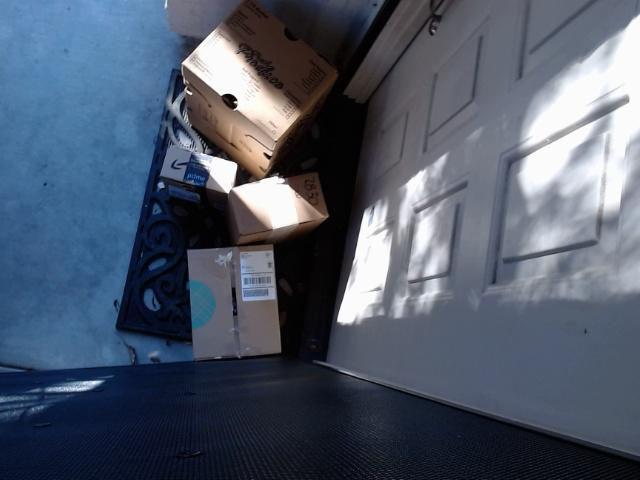box: (181, 0, 337, 179), (187, 246, 282, 362), (229, 172, 329, 246), (159, 148, 237, 208)
